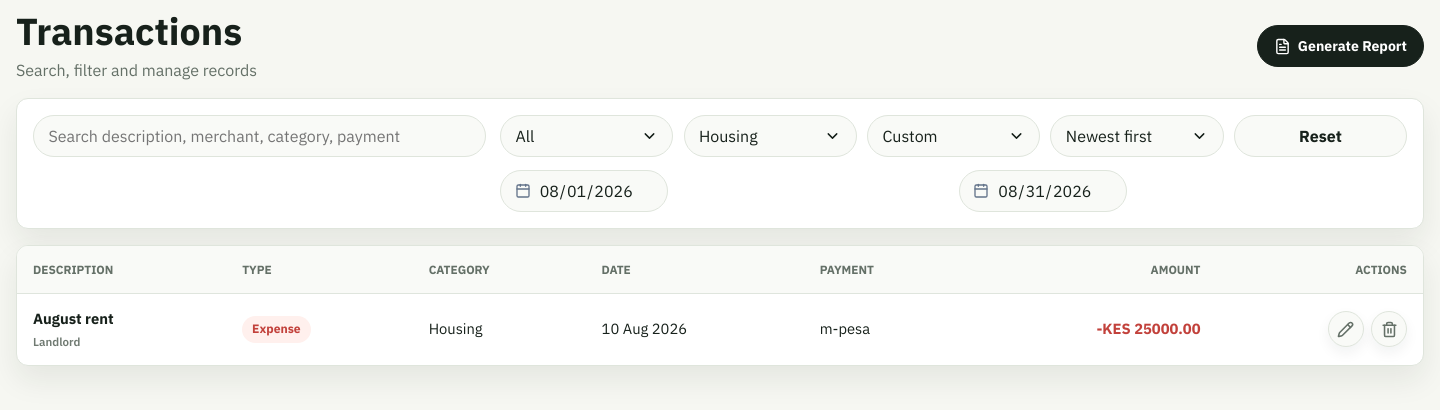
Test case: Transactions analytics drill-down › opens with the category and date window supplied by an insight
Expected: the text "August rent" is shown, left=33, top=309, right=114, bottom=328
Expected: the text "Weekly groceries" is not shown
Click the button "Reset" at (1320, 136), box left=1234, top=115, right=1407, bottom=157
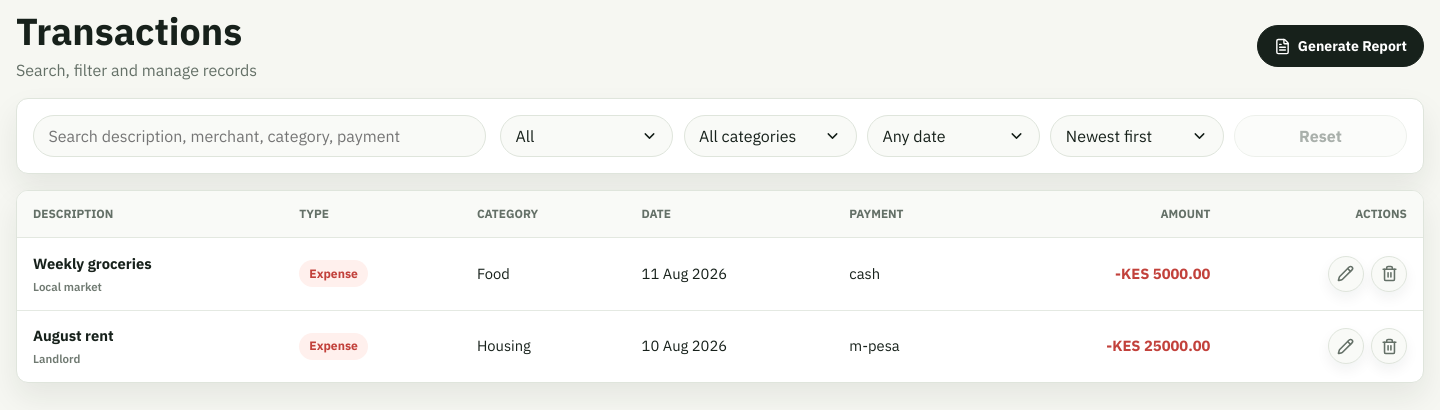
Expected: the text "Weekly groceries" is shown, left=33, top=254, right=152, bottom=273
Expected: the dropdown named "Filter transactions by category" shows "All categories", left=684, top=115, right=857, bottom=157
